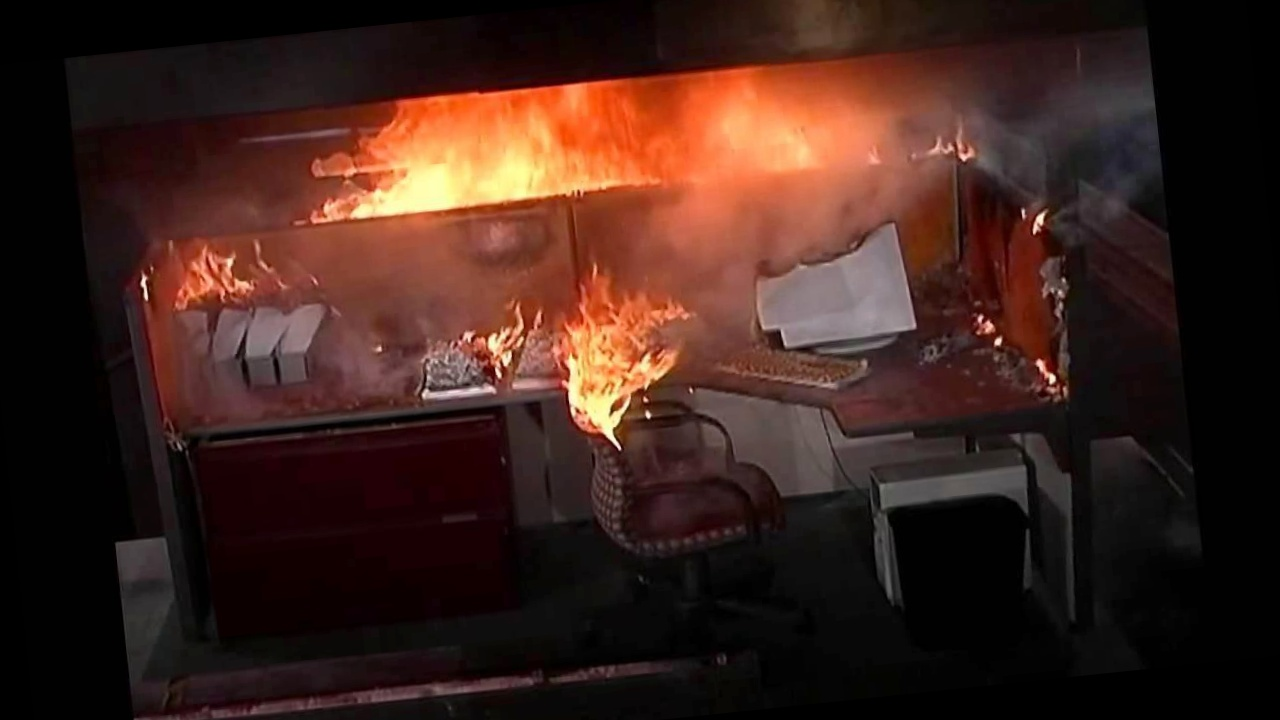fire: (338, 58, 857, 254), (541, 268, 695, 439)
